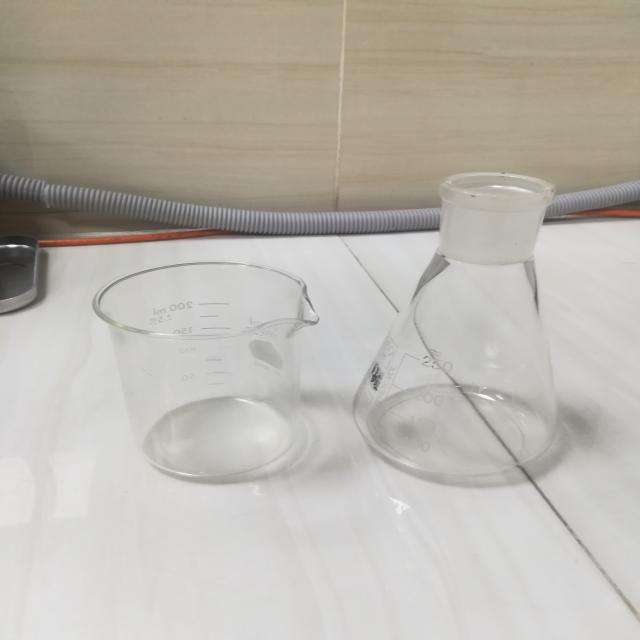Beaker: (71, 238, 339, 502)
Conical_Flask: (347, 116, 588, 506)
